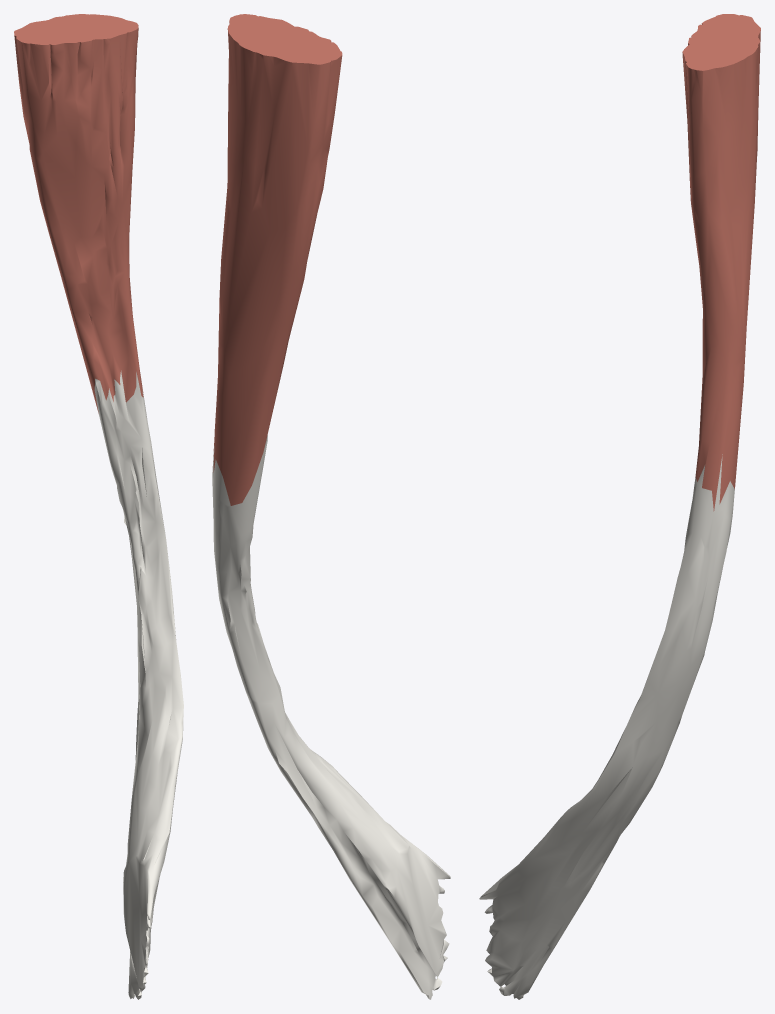
File: semi-tendineux.glb
The picture shows the model from 3 angles, left to right: view 1: azimuth 30°, elevation 25°; view 2: azimuth 150°, elevation 25°; view 3: azimuth 270°, elevation 25°; orthographic projection. The views are drawn at different scales.
Visible parts, largest first — view 1: semi-tendineux; view 2: semi-tendineux; view 3: semi-tendineux.
Part boxes in pixels (x1,y1,x2,y2): semi-tendineux: (14,14,183,999); semi-tendineux: (212,14,450,999); semi-tendineux: (479,14,760,999).
Size of the model in its own units: 0.0318 by 0.2217 by 0.058.
